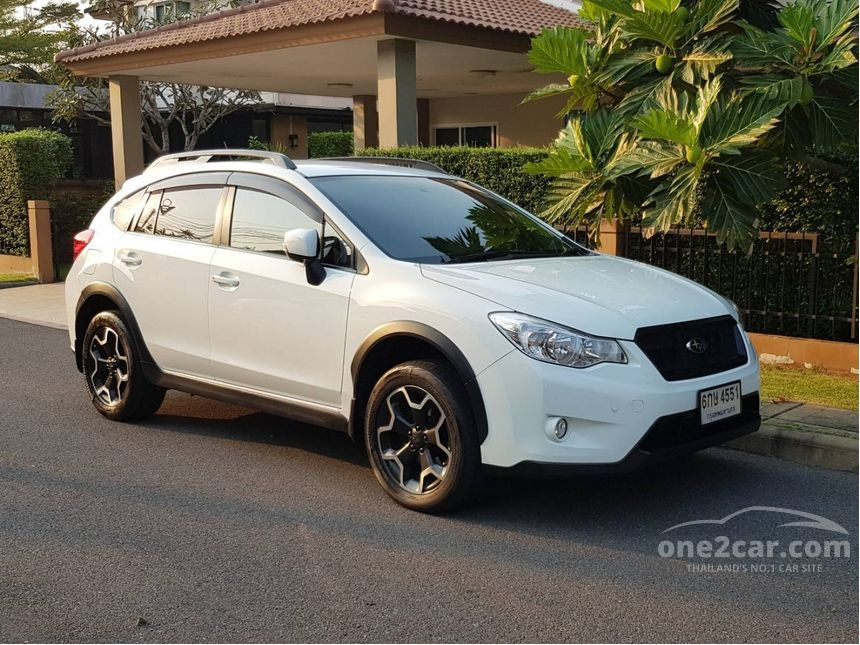pickup: (62, 145, 762, 510)
